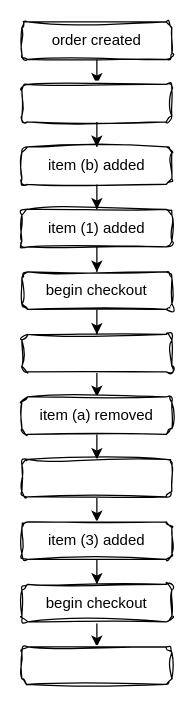
Some shapes in this 194 by 706 pixel diagram are drawn without their labels. The box of each missing label's shape, as (x1, y1, x2, y2) in pixels:
complete checkout: (21, 646, 172, 684)
item (2) added: (21, 458, 172, 497)
item (a) added: (21, 83, 172, 122)
item (b) removed: (21, 333, 172, 372)
